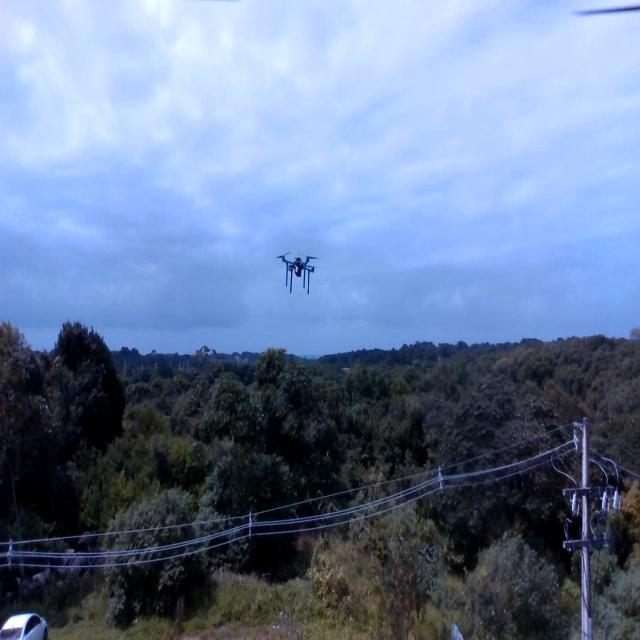-uav-: (274, 241, 320, 303)
